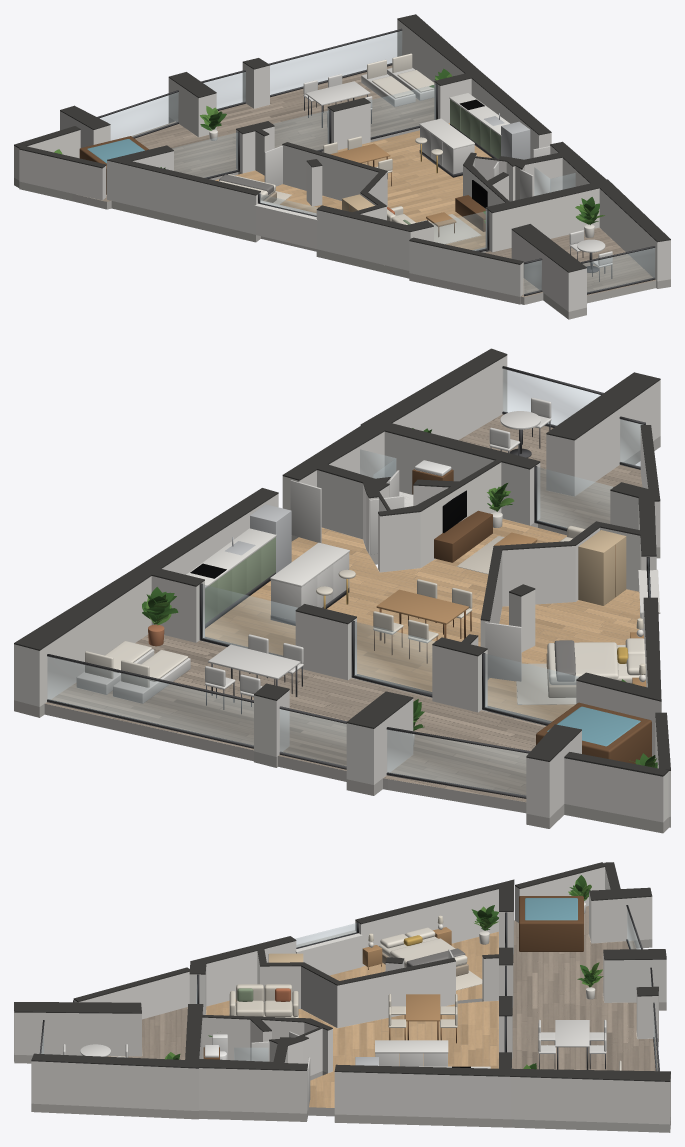
The picture shows the model from 3 angles, top to bottom: view 1: azimuth 30°, elevation 25°; view 2: azimuth 150°, elevation 25°; view 3: azimuth 270°, elevation 25°; orthographic projection. The views are drawn at different scales.
Visible parts, largest first — view 1: walls, floor, caps, Cube.027, par.002, par.001, Cube.008, Cube, Cube.033, Cube.024, sill, Cube.016 (+21 smaller); view 2: walls, floor, caps, Cube.027, Cube.024, par, Cube, Cube.008, Cube.004, Cube.016, Cube.047, Cube.033 (+25 smaller); view 3: walls, floor, caps, Cube.092, par.002, sill, par.001, Cube.093, Cube.063, Cube.094, Cube.064, Cube.040 (+8 smaller).
Boxes of the visible parts, box(x1,y1,x2,y2) form: walls: box(60, 19, 670, 311); floor: box(14, 65, 670, 319); caps: box(60, 14, 670, 272); Cube.027: box(203, 31, 401, 108); par.002: box(409, 241, 523, 296); par.001: box(19, 149, 106, 200); Cube.008: box(369, 84, 435, 137); Cube: box(172, 132, 237, 177); Cube.033: box(583, 248, 654, 292); Cube.024: box(100, 92, 178, 140); sill: box(255, 207, 316, 248); Cube.016: box(432, 211, 487, 250); walls: box(14, 355, 661, 817); floor: box(14, 414, 670, 833); caps: box(14, 348, 661, 761); Cube.027: box(47, 657, 346, 766); Cube.024: box(387, 730, 527, 795); par: box(564, 758, 668, 822); Cube: box(485, 654, 578, 723); Cube.008: box(202, 584, 297, 656); Cube.004: box(354, 622, 434, 694); Cube.016: box(537, 467, 612, 528); Cube.047: box(578, 530, 626, 605); Cube.033: box(503, 369, 600, 425); walls: box(14, 885, 670, 1124); floor: box(14, 906, 670, 1132); caps: box(14, 879, 670, 1081); Cube.092: box(519, 896, 583, 951); par.002: box(74, 972, 189, 1019); sill: box(296, 936, 361, 975); par.001: box(515, 867, 604, 922); Cube.093: box(525, 898, 577, 920); Cube.063: box(375, 1040, 448, 1053); Cube.094: box(555, 1020, 589, 1047); Cube.064: box(406, 994, 440, 1021); Cube.040: box(390, 938, 467, 967).
Bounding box in the file's own units: 14 × 1.49 × 17.15.
Materials: 33 (1 with a texture image).
